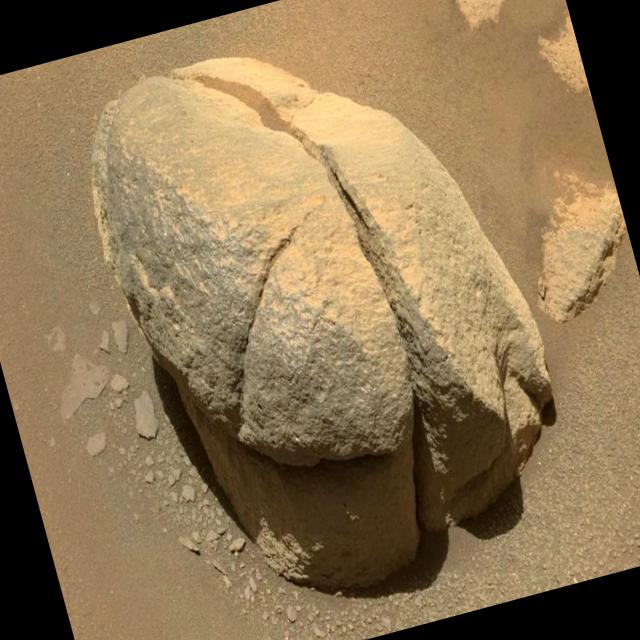stone: (91, 57, 551, 590)
white-sand: (0, 19, 640, 640), (216, 0, 626, 321)
